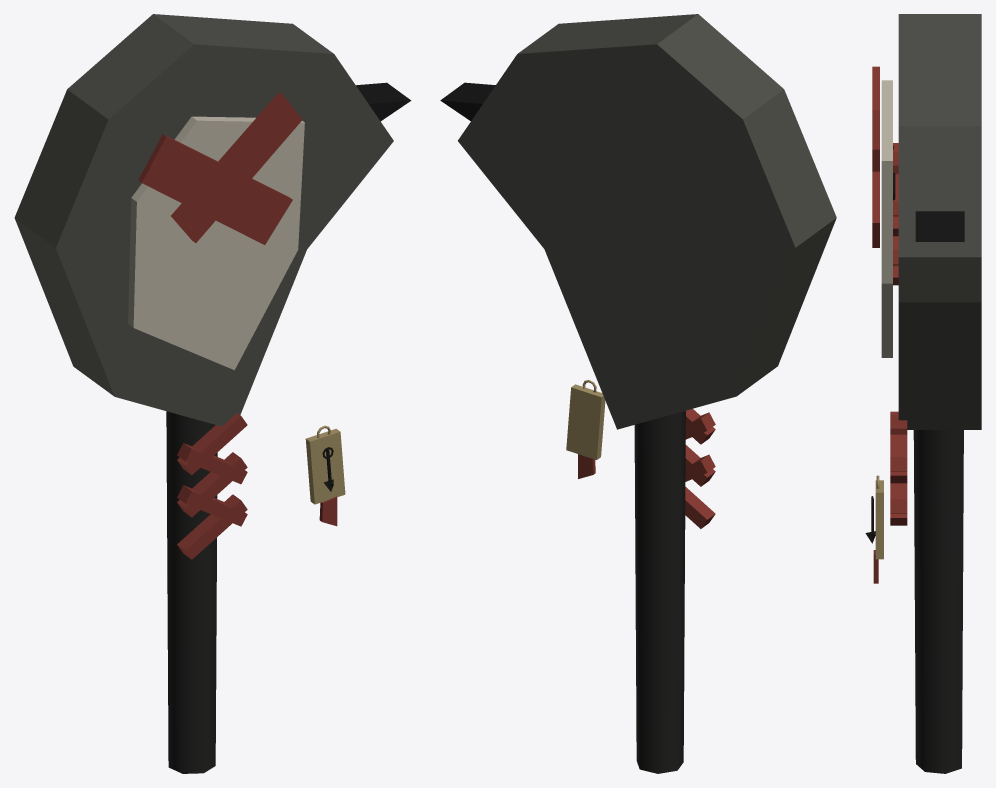
Rendered from fantasy-faceted-execution-axe-v1.glb.
3 renders of one model, left to right at view 1: azimuth 30°, elevation 25°; view 2: azimuth 150°, elevation 25°; view 3: azimuth 270°, elevation 25°, orthographic.
Visible parts, largest first — view 1: Execution Axe; view 2: Execution Axe; view 3: Execution Axe.
Boxes of the visible parts, left/top/right/bottom form: Execution Axe: left=14, top=14, right=411, bottom=773; Execution Axe: left=440, top=14, right=836, bottom=773; Execution Axe: left=865, top=14, right=981, bottom=773.
Size of the model in its own units: 2.24 by 4.34 by 0.6169.
